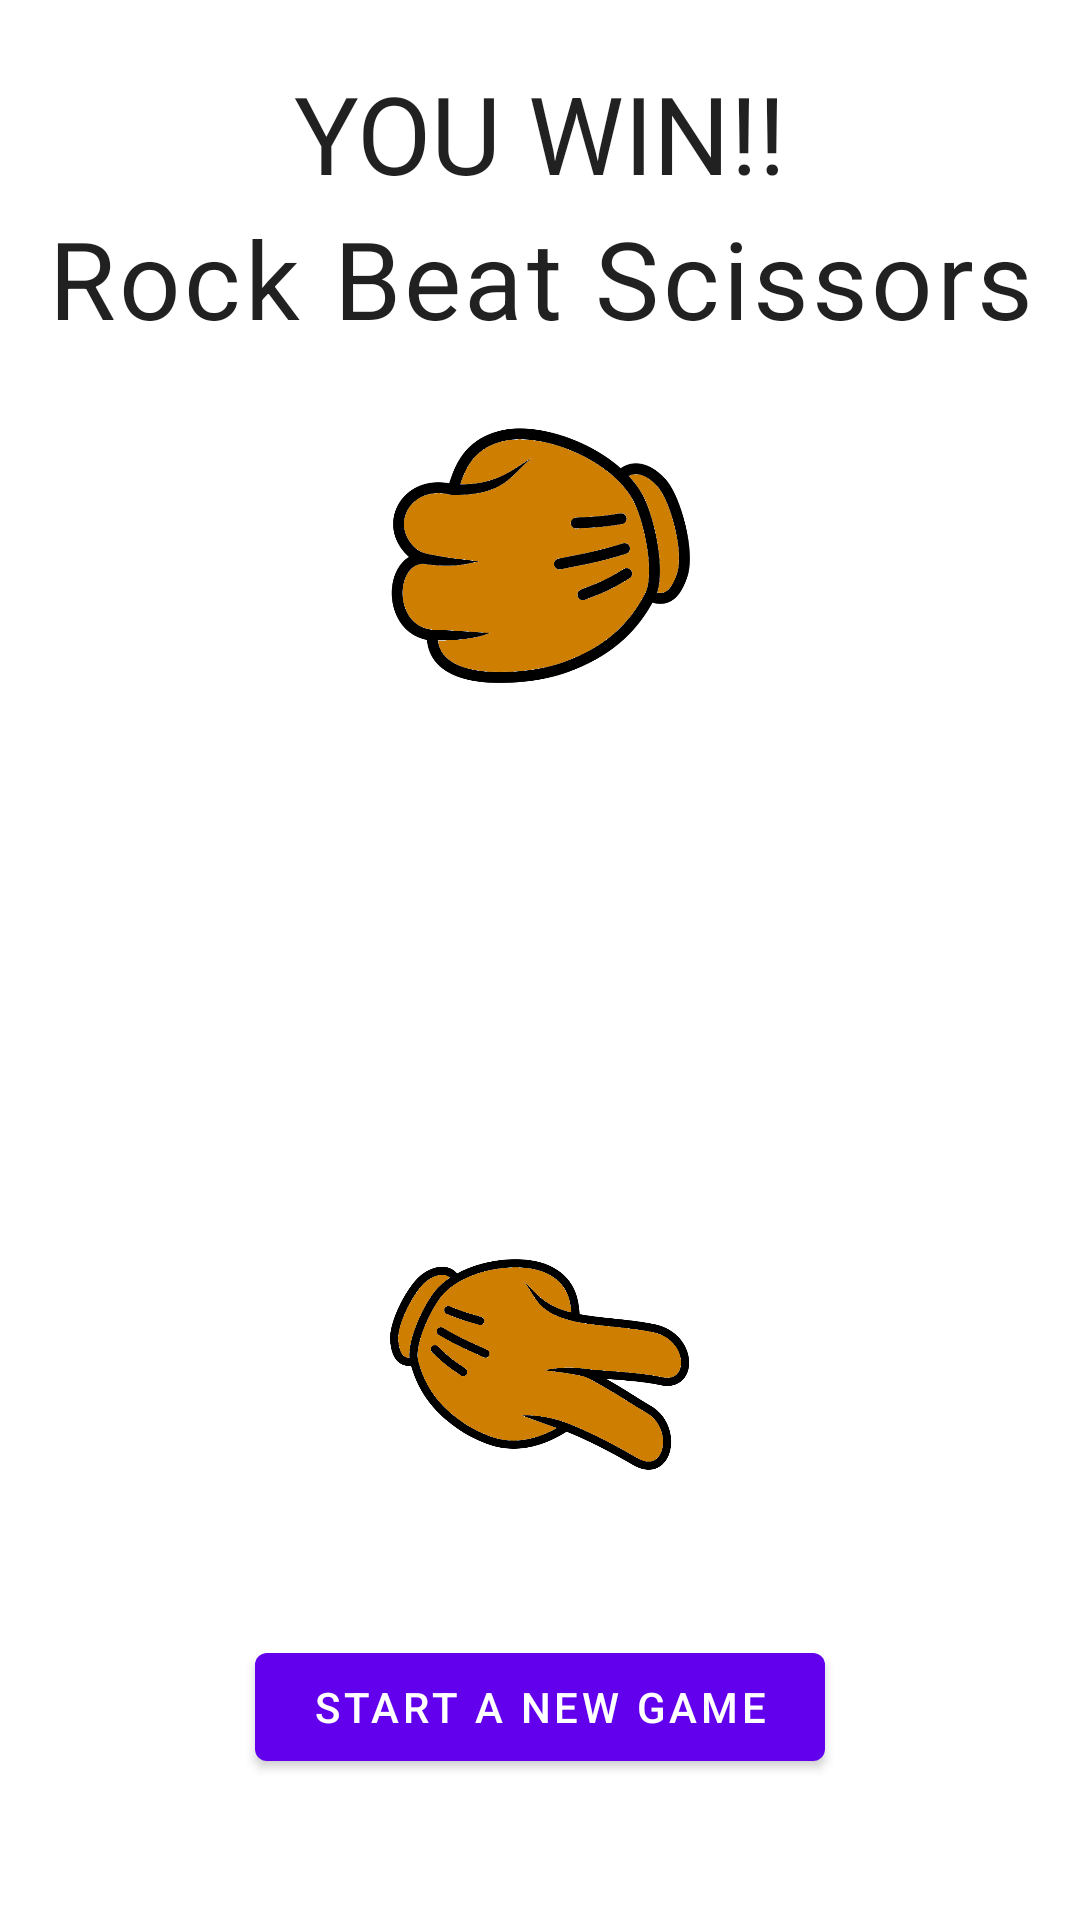

Locate icon controls on the screen. Image size 1080*1920, boxes as (x1, y1, x2, y2).
batu: (391, 428, 690, 683)
gunting: (390, 1259, 689, 1470)
